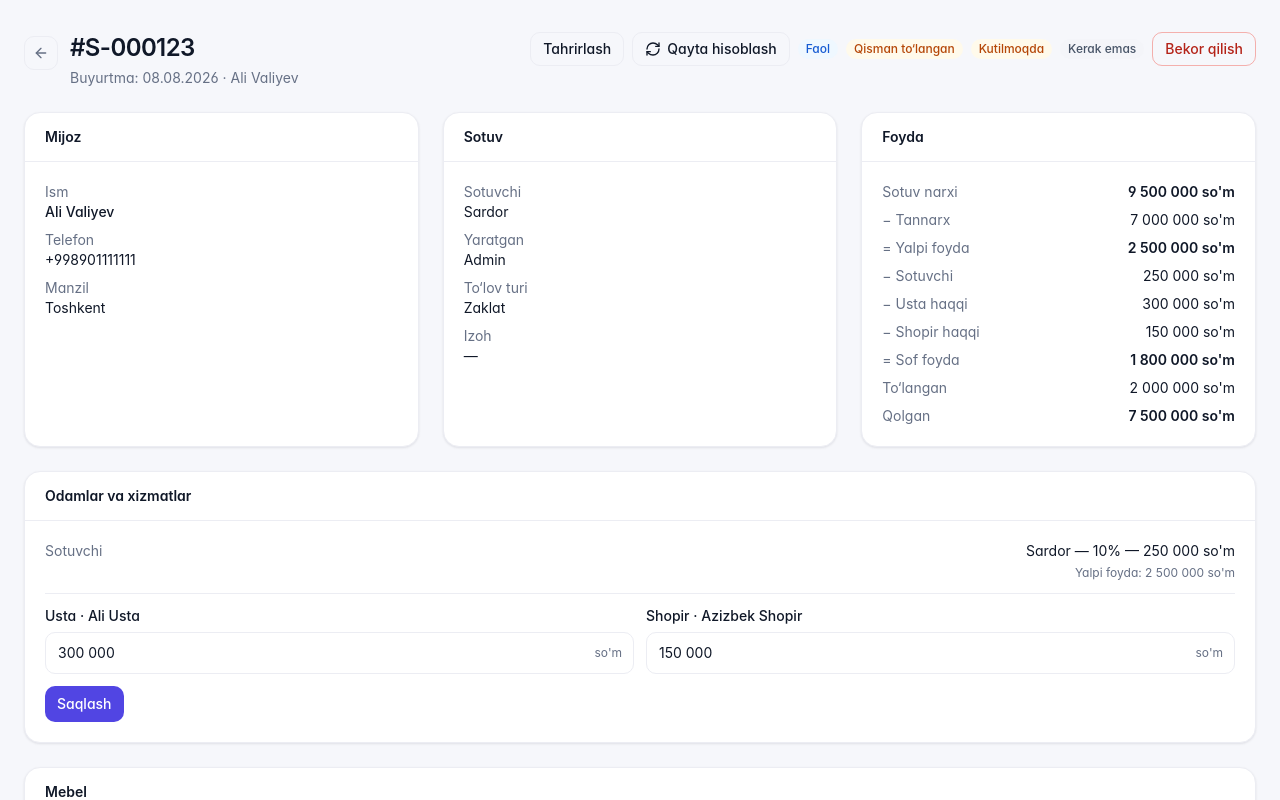
SaleDetailPage › asks for confirmation before recalculating seller commission
Click the button with test id "sale-recalculate-commission" at [711, 49], box top-left (632, 32), bottom-right (790, 66)
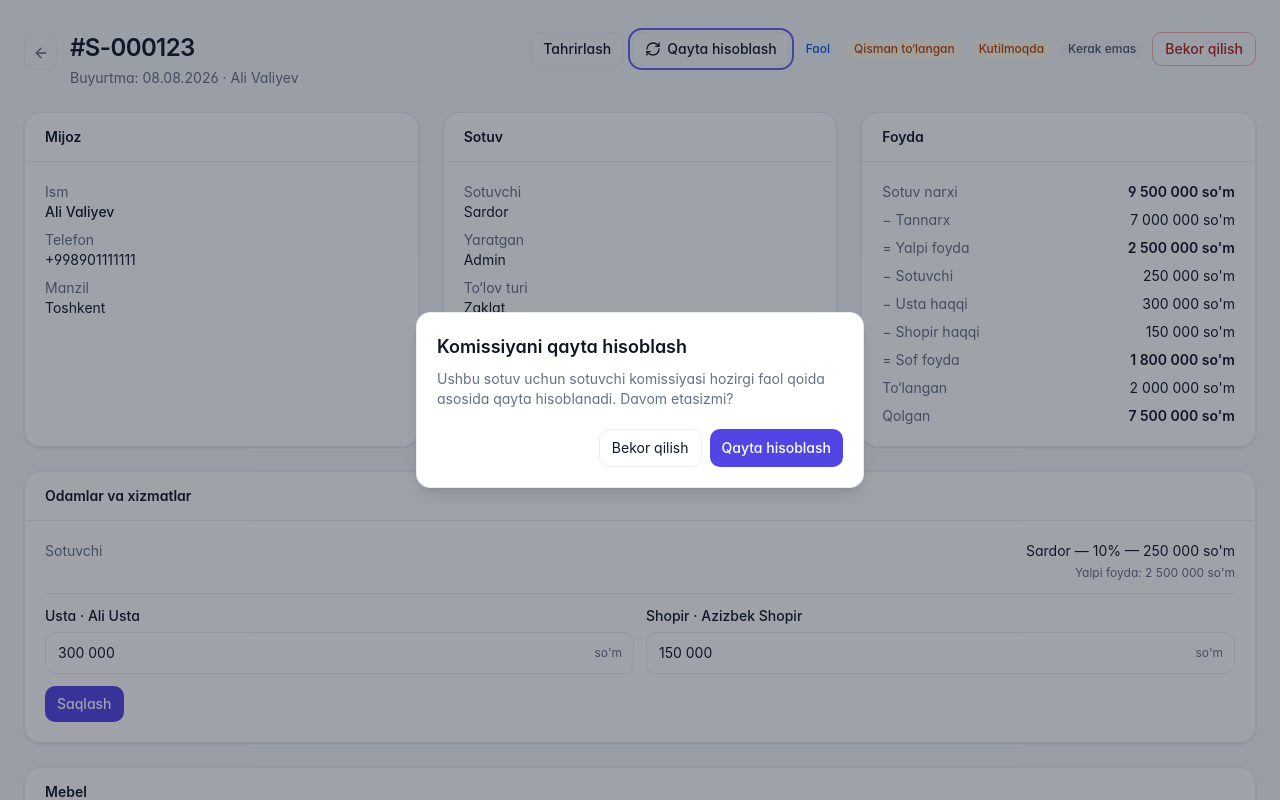
Expected: the text "Ushbu sotuv uchun sotuvchi komissiyasi hozirgi faol qoida asosida qayta hisoblanadi" is shown, top-left (437, 370), bottom-right (825, 407)
Expected: the button "Bekor qilish" is shown, top-left (599, 429), bottom-right (702, 467)
Click the button "Qayta hisoblash" at [776, 448], box top-left (710, 429), bottom-right (843, 467)
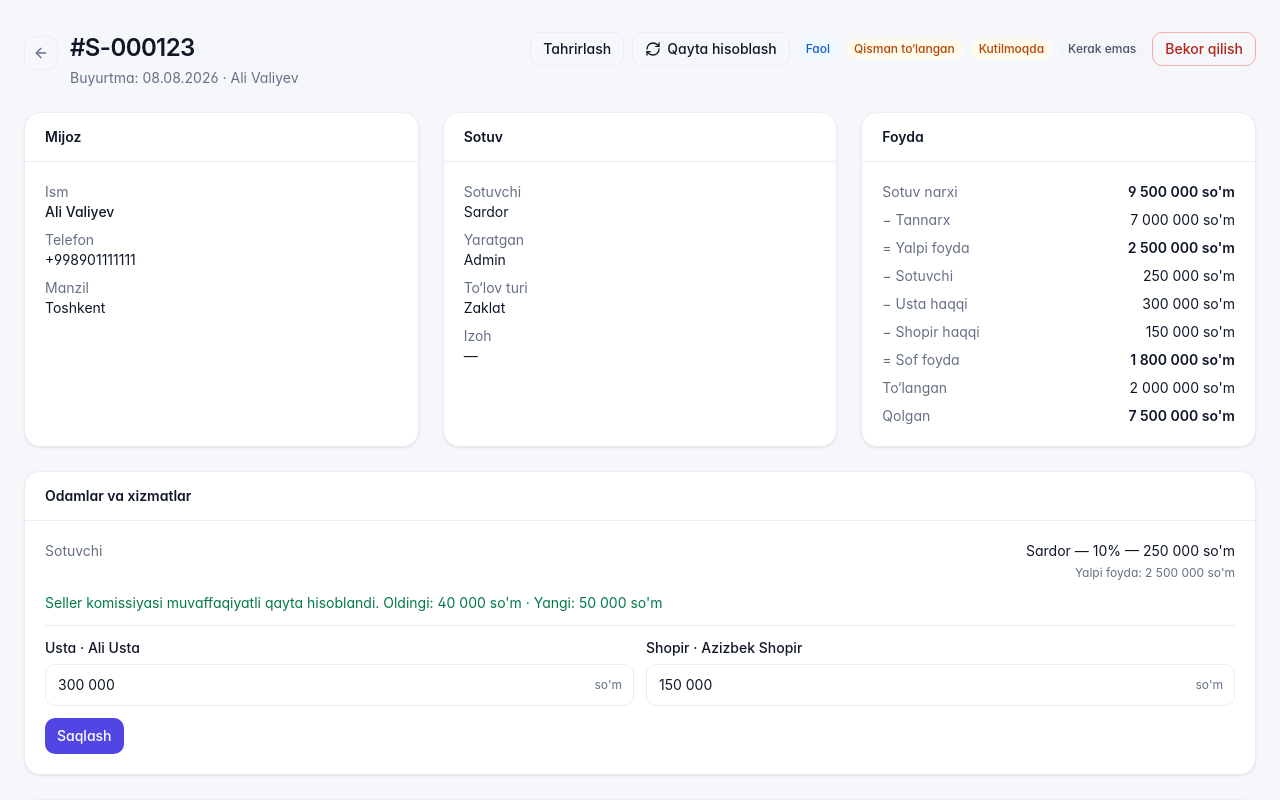
Expected: the message with test id "sale-recalculate-success" shows "Seller komissiyasi muvaffaqiyatli qayta hisoblandi", top-left (45, 594), bottom-right (662, 611)
Expected: the message with test id "sale-recalculate-success" shows "40", top-left (45, 594), bottom-right (662, 611)
Expected: the message with test id "sale-recalculate-success" shows "50", top-left (45, 594), bottom-right (662, 611)
